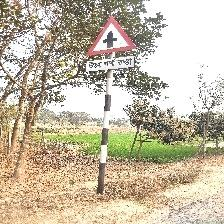Crossroad: (80, 4, 138, 78)
